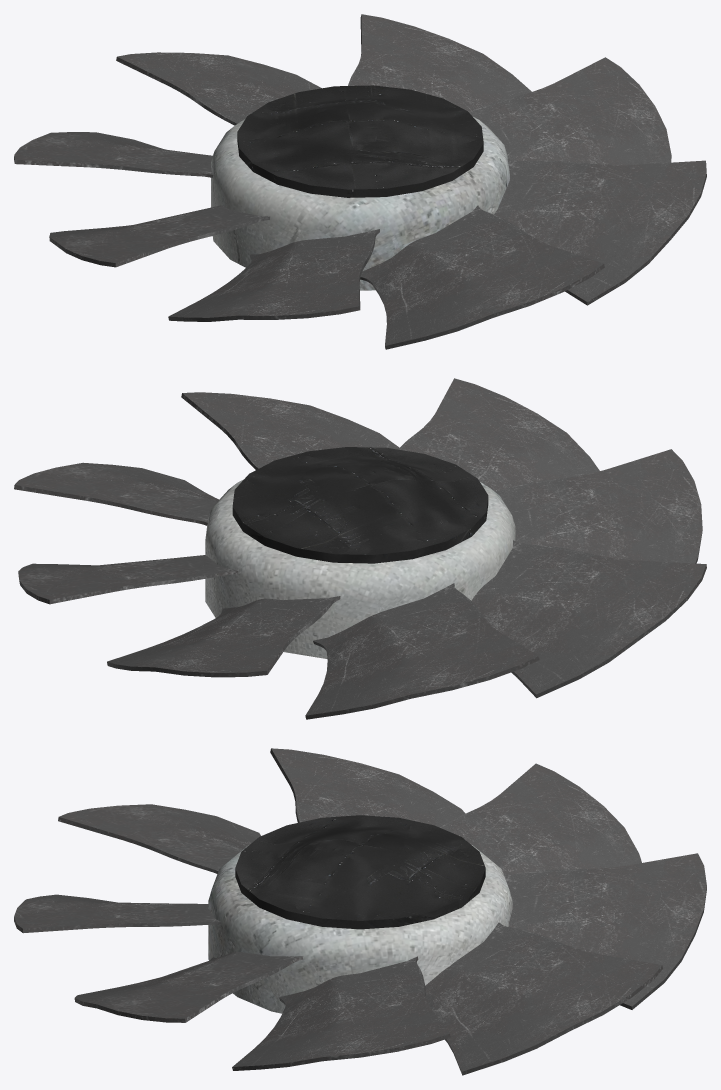
Rendered from F_Fan_01.fbx.
3 views of the same model, one above another, from view 1: azimuth 30°, elevation 25°; view 2: azimuth 150°, elevation 25°; view 3: azimuth 270°, elevation 25° (orthographic). The views are drawn at different scales.
Visible parts, largest first — view 1: F_Fan_01; view 2: F_Fan_01; view 3: F_Fan_01.
Boxes of the visible parts, bbox=[...] form: F_Fan_01: bbox=[14, 14, 706, 349]; F_Fan_01: bbox=[14, 378, 706, 719]; F_Fan_01: bbox=[14, 748, 706, 1075].
Bounding box in the file's own units: 30 × 5.25 × 30.
1 material, 1 textured.
